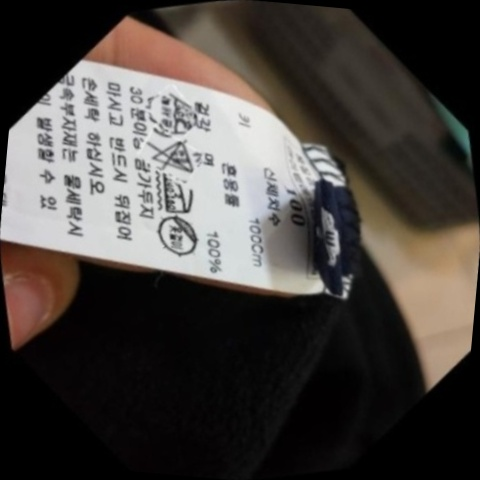hand_wash: (141, 76, 210, 147)
iron_medium: (149, 163, 210, 225)
line_dry_in_shade: (141, 197, 218, 274)
non_chlorine_bleach: (140, 126, 206, 187)
